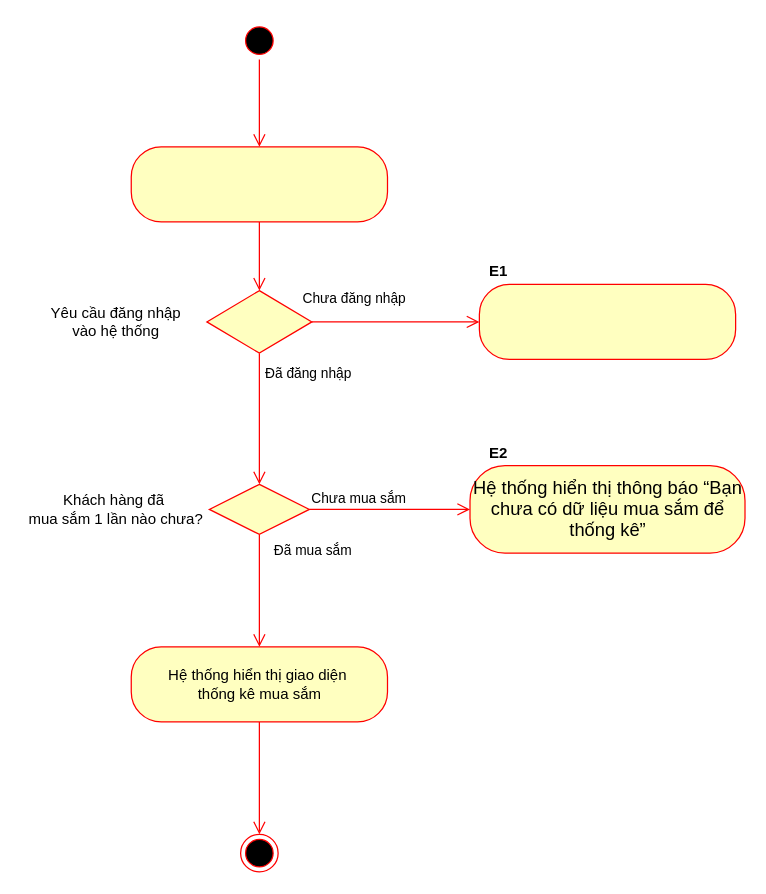
Image size: 766x894. Some labels were removed from this diagram. The shapes that lost their labels are listed below. From the top down, each one's box as (x1, y1, x2, y2) in pixels, then its label:
(130, 146, 388, 222): Khách hàng truy cập trang thống kê mua sắm
(478, 283, 736, 359): Hệ thống yêu cầu khách hàng đăng nhập
